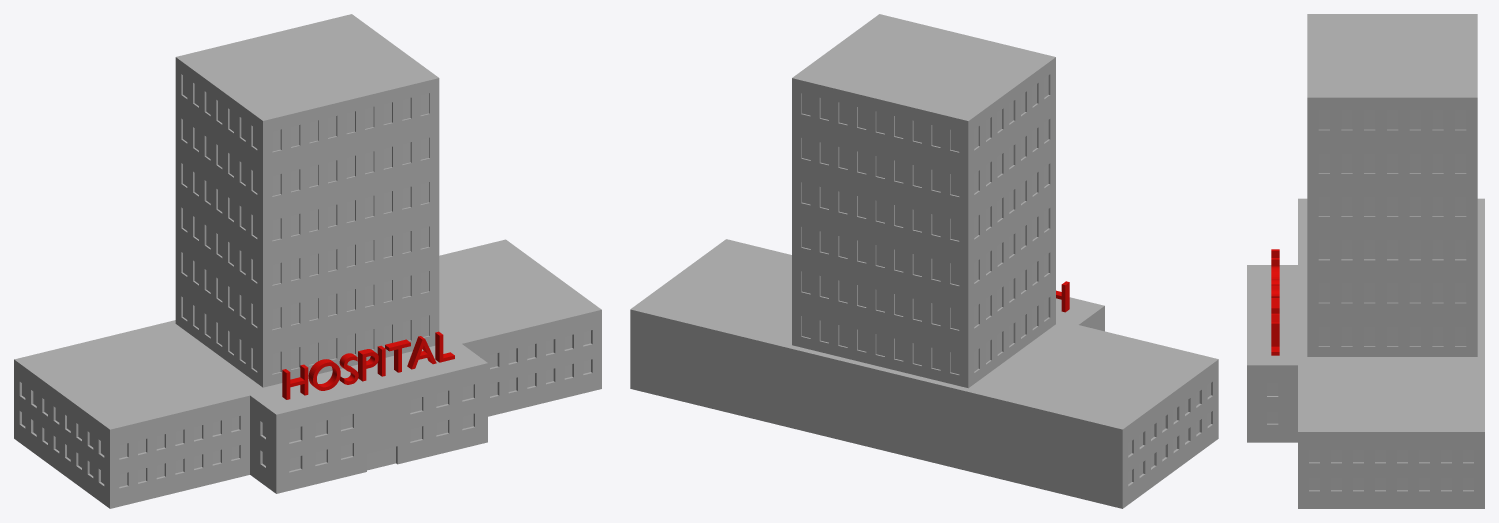
Rendered from Hospital.fbx.
3 views of the same model, side by side, from view 1: azimuth 30°, elevation 25°; view 2: azimuth 150°, elevation 25°; view 3: azimuth 270°, elevation 25° (orthographic). The views are drawn at different scales.
Visible parts, largest first — view 1: Cube, Text; view 2: Cube; view 3: Cube, Text.
Boxes of the visible parts, x1,y1,x2,y2 form: Cube: (14,14,601,508); Text: (282,331,454,399); Cube: (630,14,1218,508); Cube: (1247,14,1484,508); Text: (1271,249,1279,355).
Bounding box in the file's own units: 1298 × 873 × 559.
